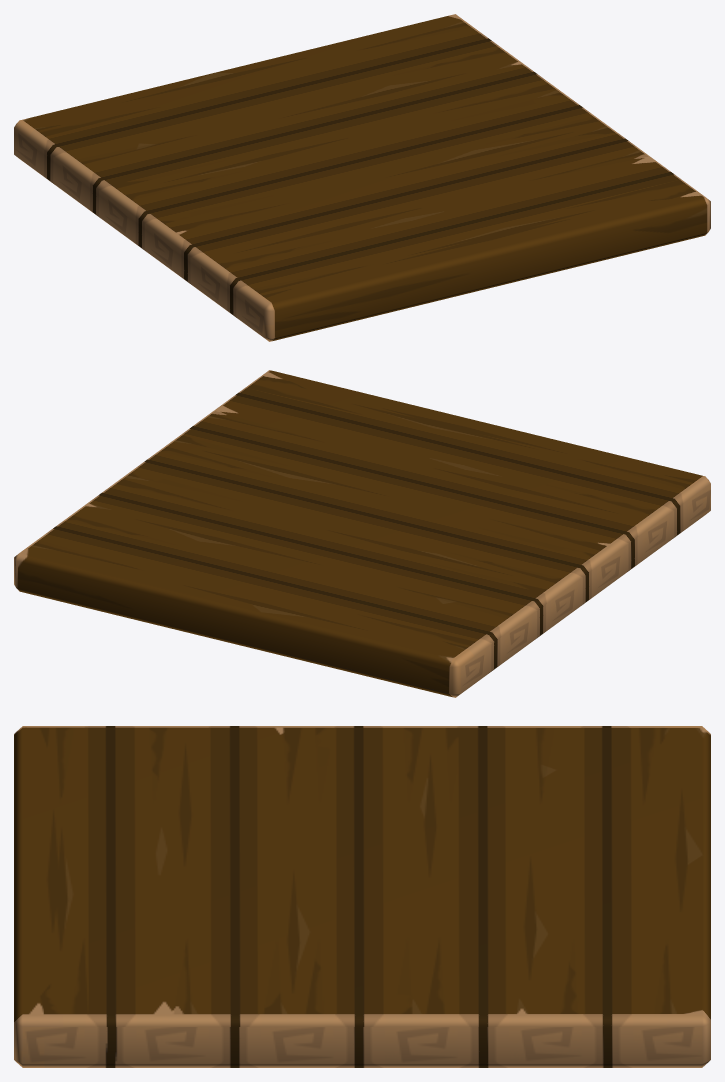
File: mod_med_platform_b_02.fbx
3 views of the same model, one above another, from view 1: azimuth 30°, elevation 25°; view 2: azimuth 150°, elevation 25°; view 3: azimuth 270°, elevation 25° (orthographic). The views are drawn at different scales.
Visible parts, largest first — view 1: polySurface1; view 2: polySurface1; view 3: polySurface1.
Part boxes in pixels (bbox=[...]): polySurface1: bbox=[14, 14, 710, 341]; polySurface1: bbox=[14, 370, 710, 697]; polySurface1: bbox=[14, 726, 710, 1067].
Bounding box in the file's own units: 11.74 × 0.9689 × 11.66.
